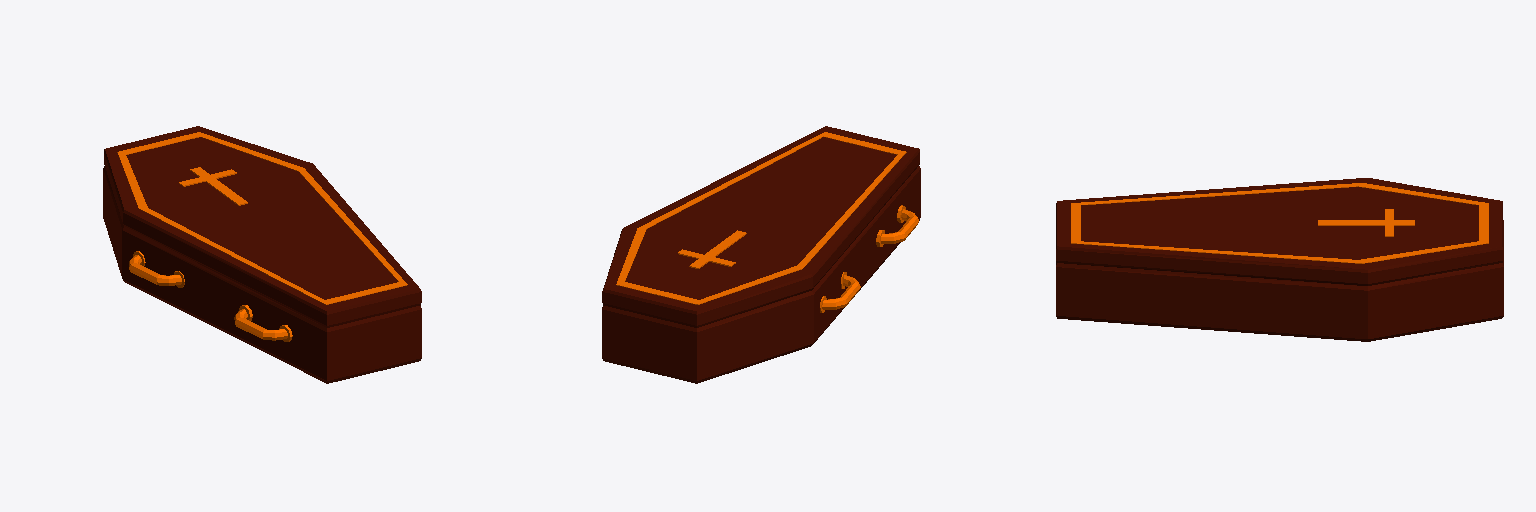
The model's file is coffin.obj.
3 renders of one model, left to right at view 1: azimuth 30°, elevation 25°; view 2: azimuth 150°, elevation 25°; view 3: azimuth 270°, elevation 25°, orthographic.
Bounding box in the file's own units: 1.58 × 0.5399 × 2.98.